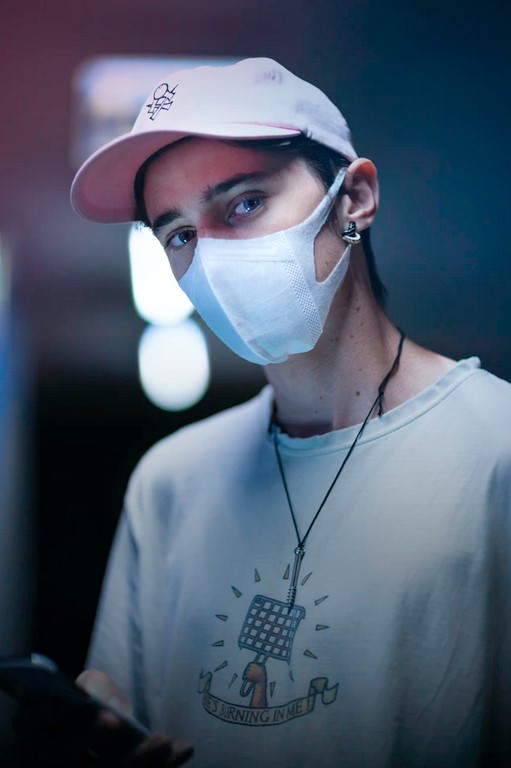face_with_mask: (137, 64, 380, 367)
